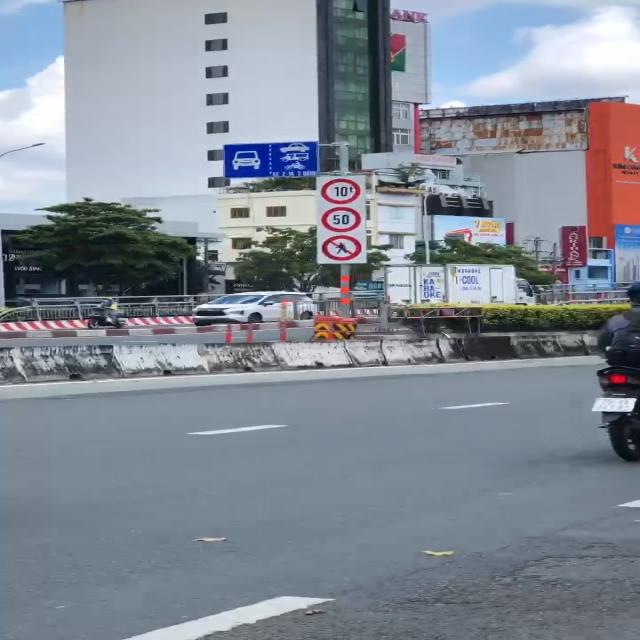Bien bao cam nguoi di bo: (321, 232, 371, 263)
Bien bao toc do toi da cho phep: (322, 204, 368, 234)
